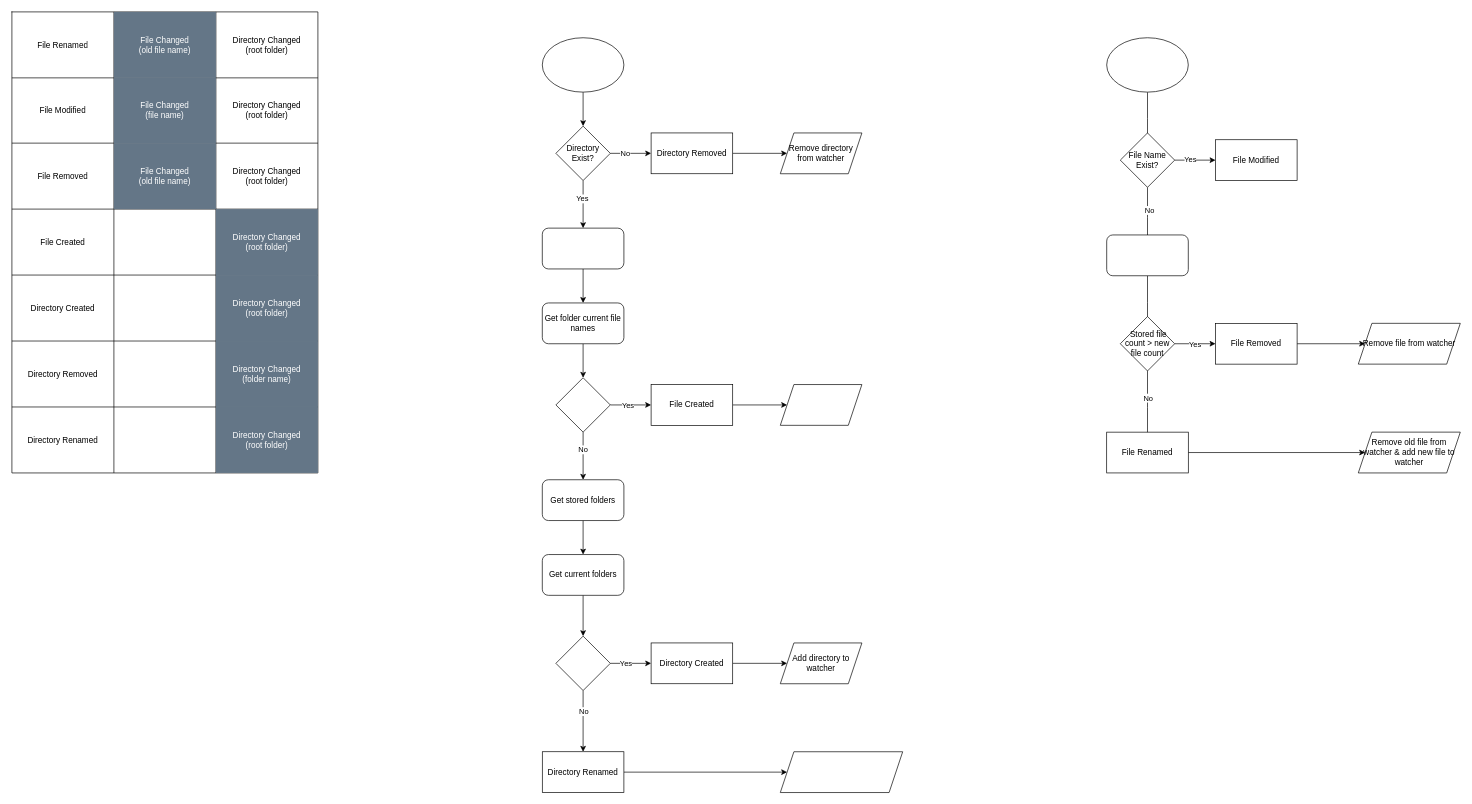
Image size: 1472x804. Some labels were removed from this diagram. Each missing label, with the centre of its shape:
Add file to watcher: the point at 821,404
CurrentDirs - StoredDirs >= 1: the point at 582,663
CurrentFiles - StoredFiles >= 1: the point at 582,404
Directory Changed: the point at 583,64
File Changed: the point at 1147,64
Get file root folder: the point at 1147,255
Get folder stored file names: the point at 583,248
Remove old directory from watcher & Add new directory to watcher: the point at 841,772
